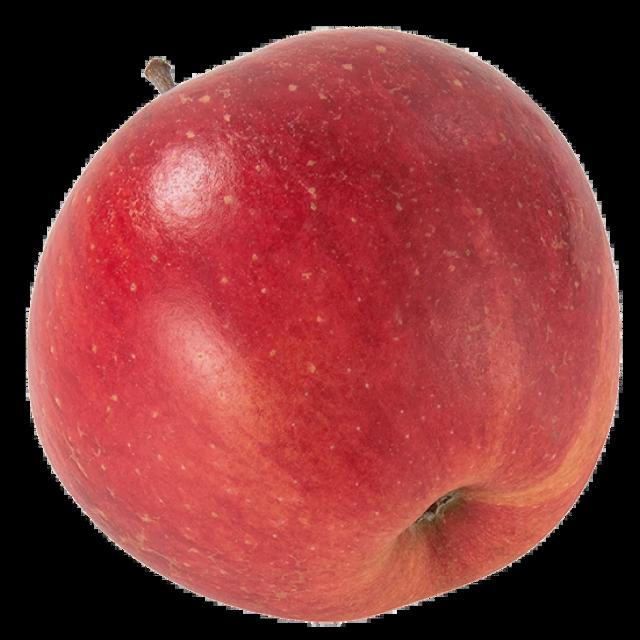aeble: (24, 20, 638, 636)
